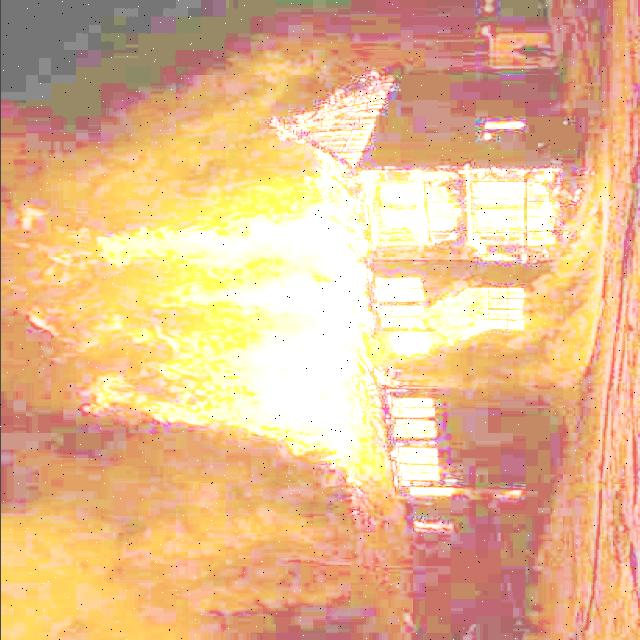api: (41, 206, 365, 468), (426, 288, 496, 350)
